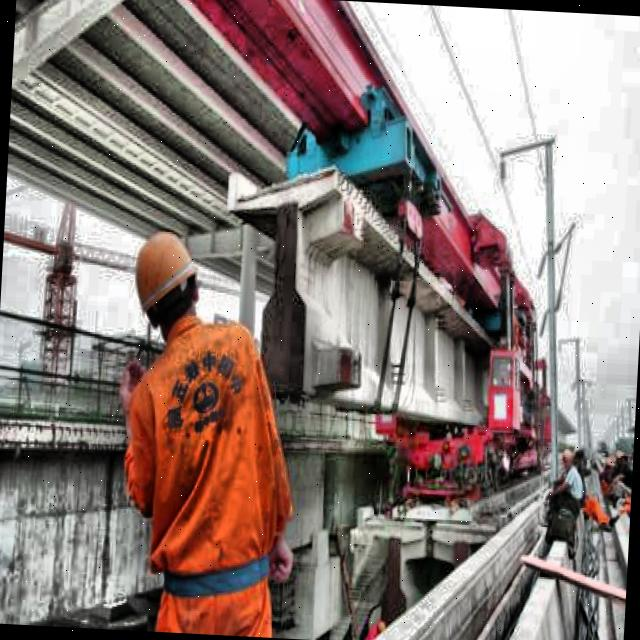helmet: (122, 215, 215, 348)
